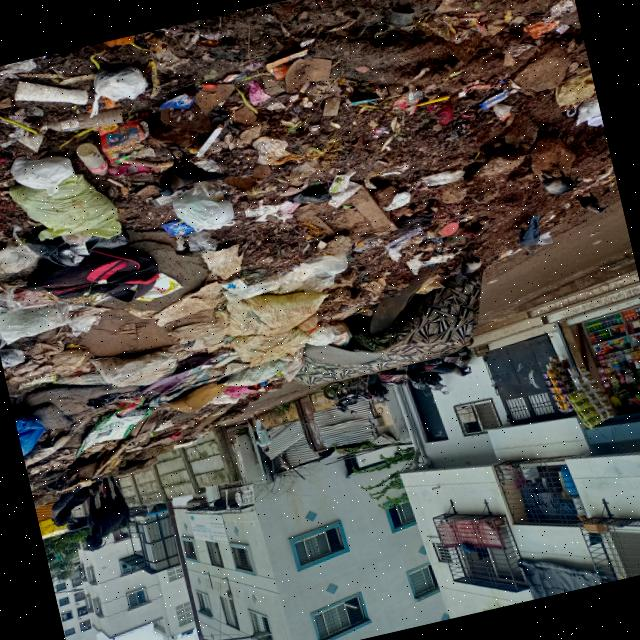garbage: (136, 0, 513, 405), (0, 35, 226, 494), (427, 0, 616, 213)
